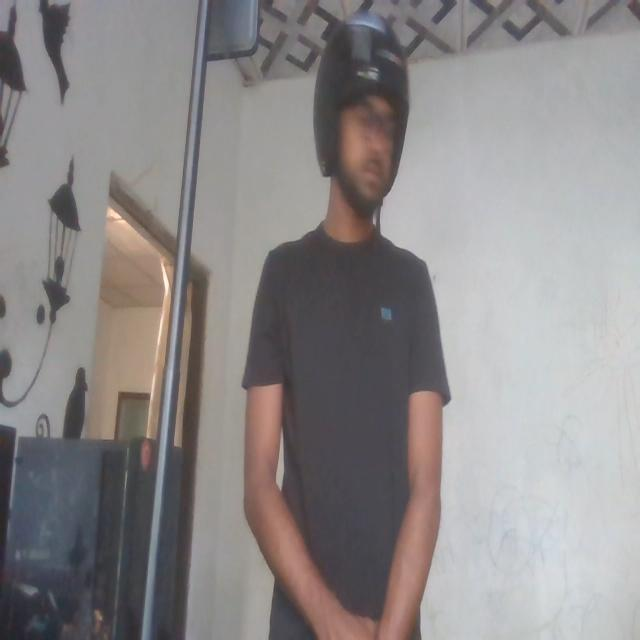Helmet_Wearer: (314, 6, 408, 246)
Person: (238, 1, 446, 640)
